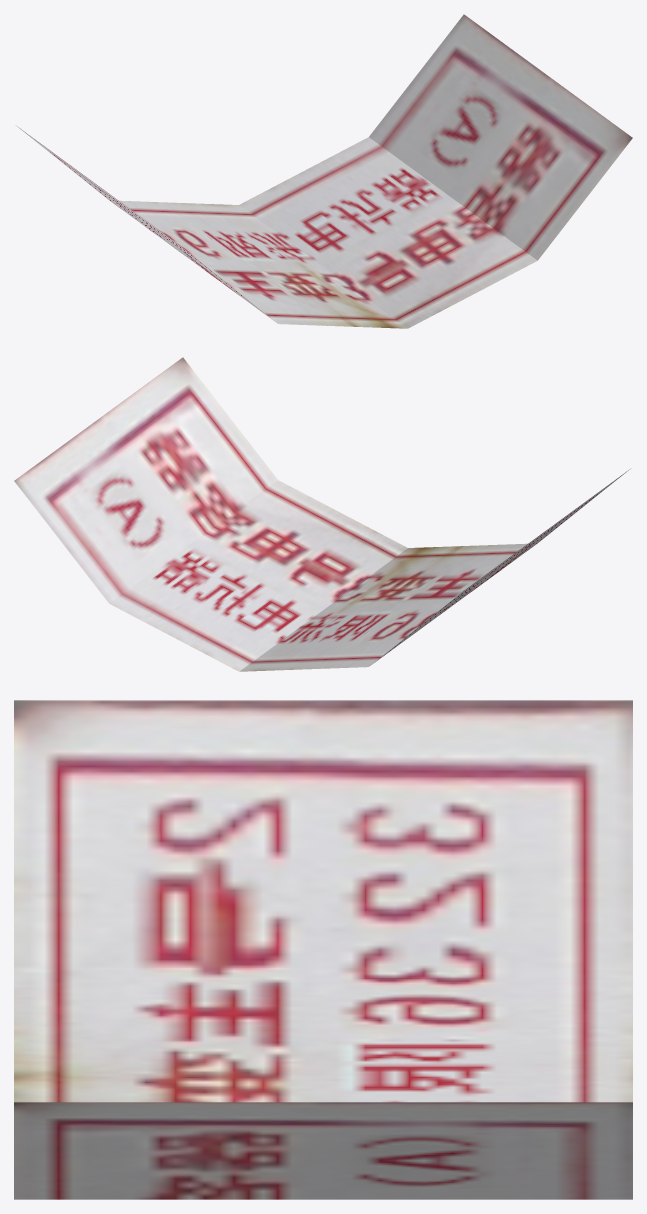
The model's file is mp-0547-geode.glb.
3 views of the same model, one above another, from view 1: azimuth 30°, elevation 25°; view 2: azimuth 150°, elevation 25°; view 3: azimuth 270°, elevation 25° (orthographic). The views are drawn at different scales.
Parts seen in each view (by area): view 1: Node; view 2: Node; view 3: Node.
Boxes of the visible parts, left/top/right/bottom form: Node: left=17, top=14, right=632, bottom=328; Node: left=14, top=357, right=629, bottom=671; Node: left=14, top=700, right=632, bottom=1199.
Bounding box in the file's own units: 0.2243 × 0.0648 × 0.146.
Materials: 1 (1 with a texture image).
